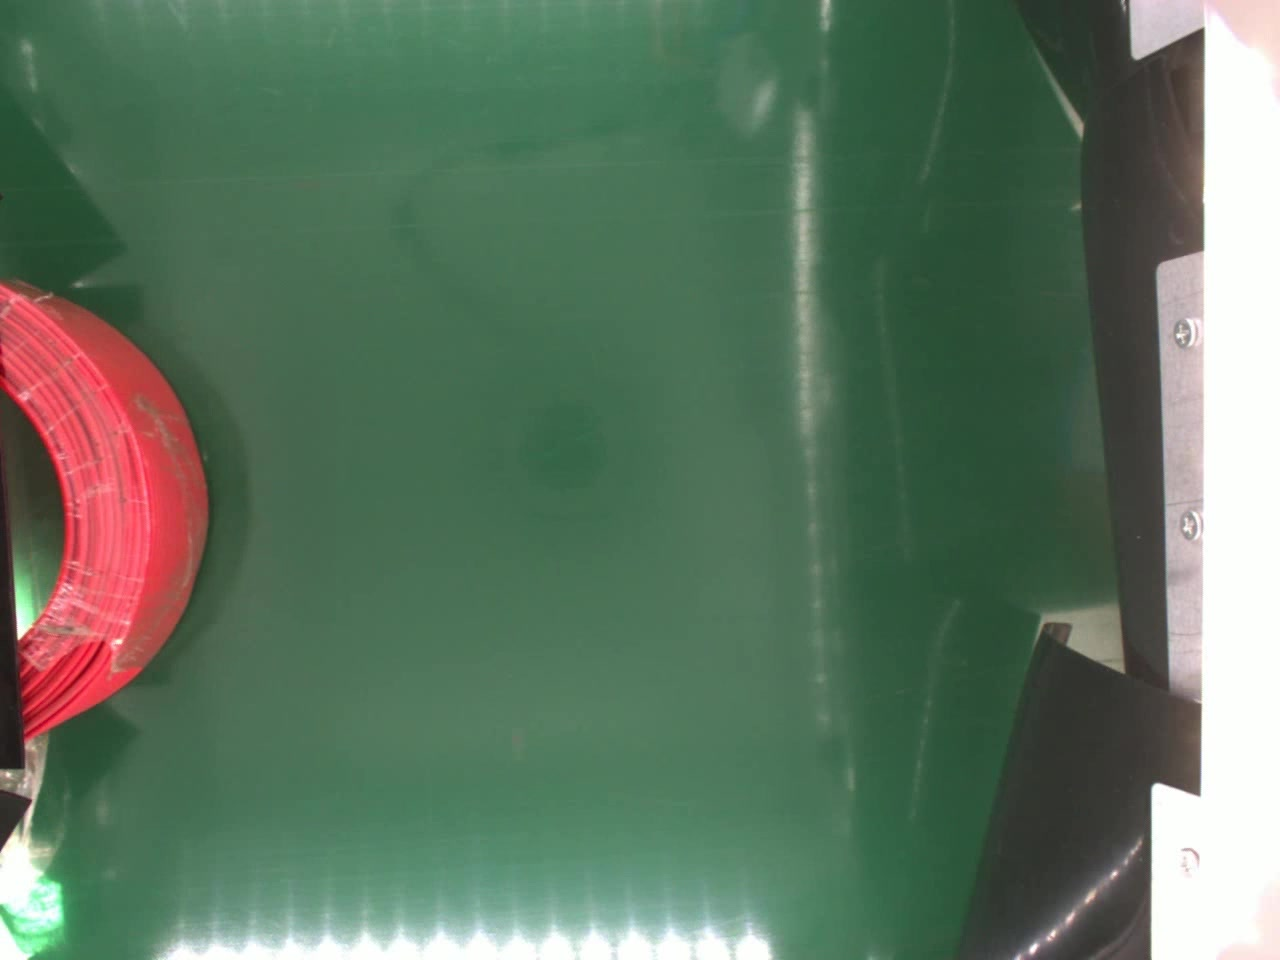red: (0, 277, 211, 742)
